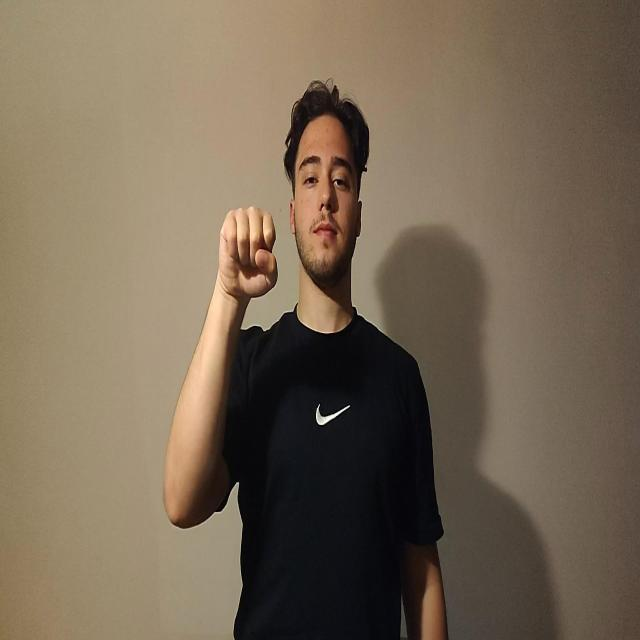yes: (217, 204, 278, 300)
